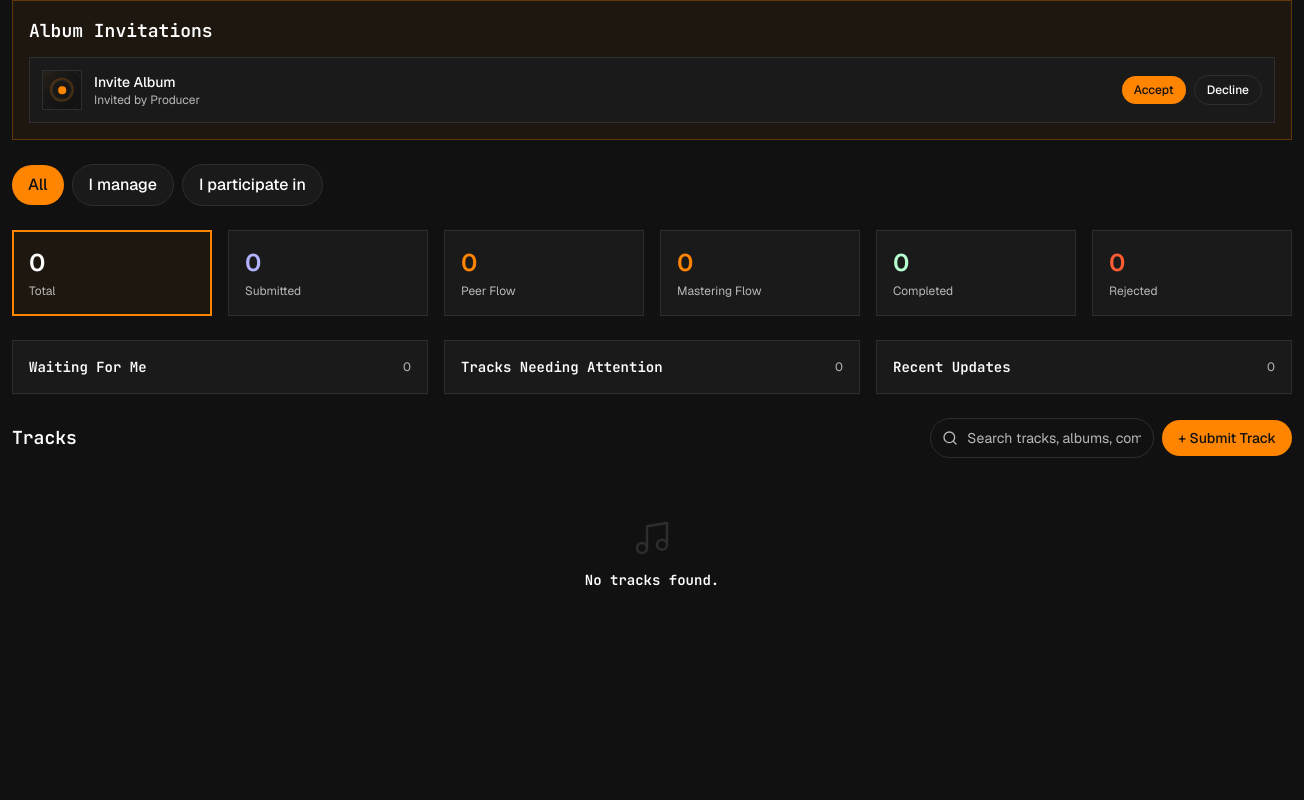
DashboardView › ignores stale dashboard search responses
Type "old" into the field with placeholder "Search tracks, albums, composers…" at (1042, 438), box [930,418,1154,458]
Wait 300 ms
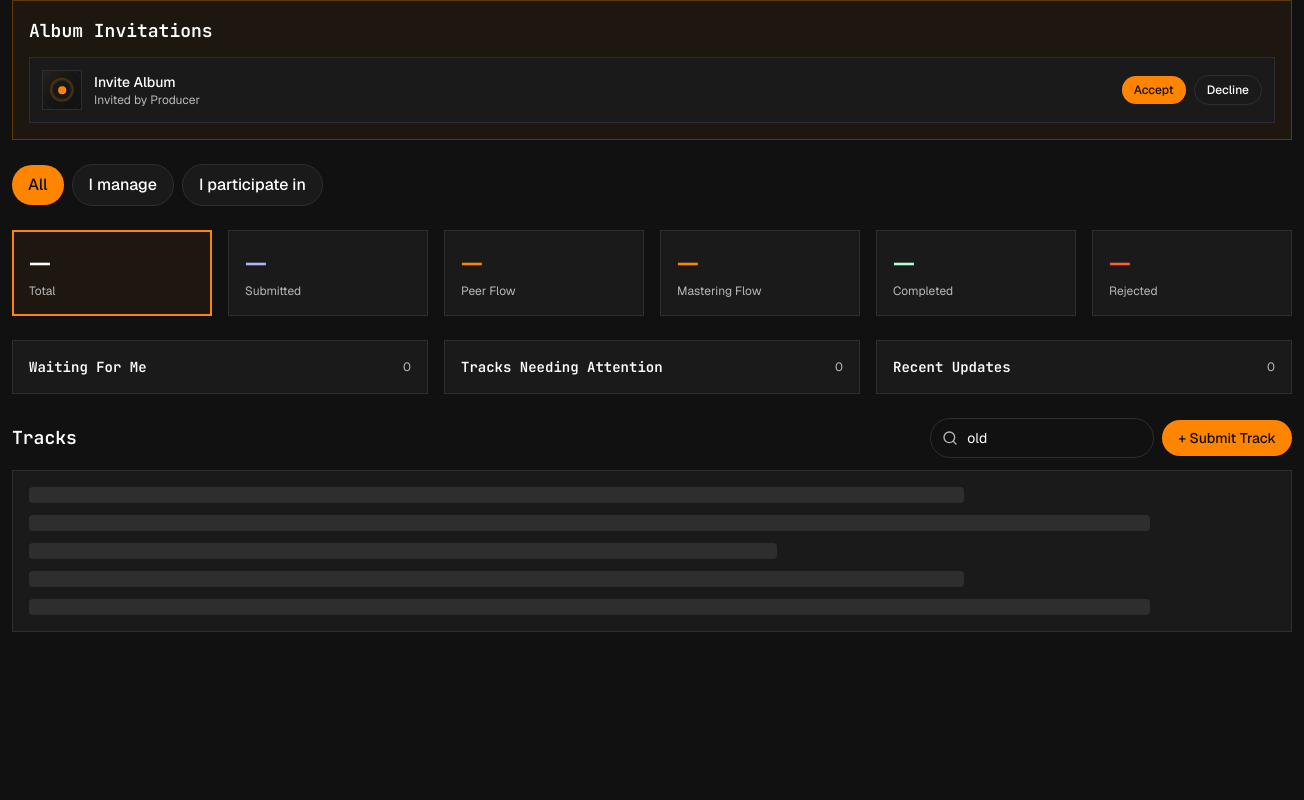
Replace the text in the field with "new" at (1042, 438), box [930,418,1154,458]
Wait 300 ms
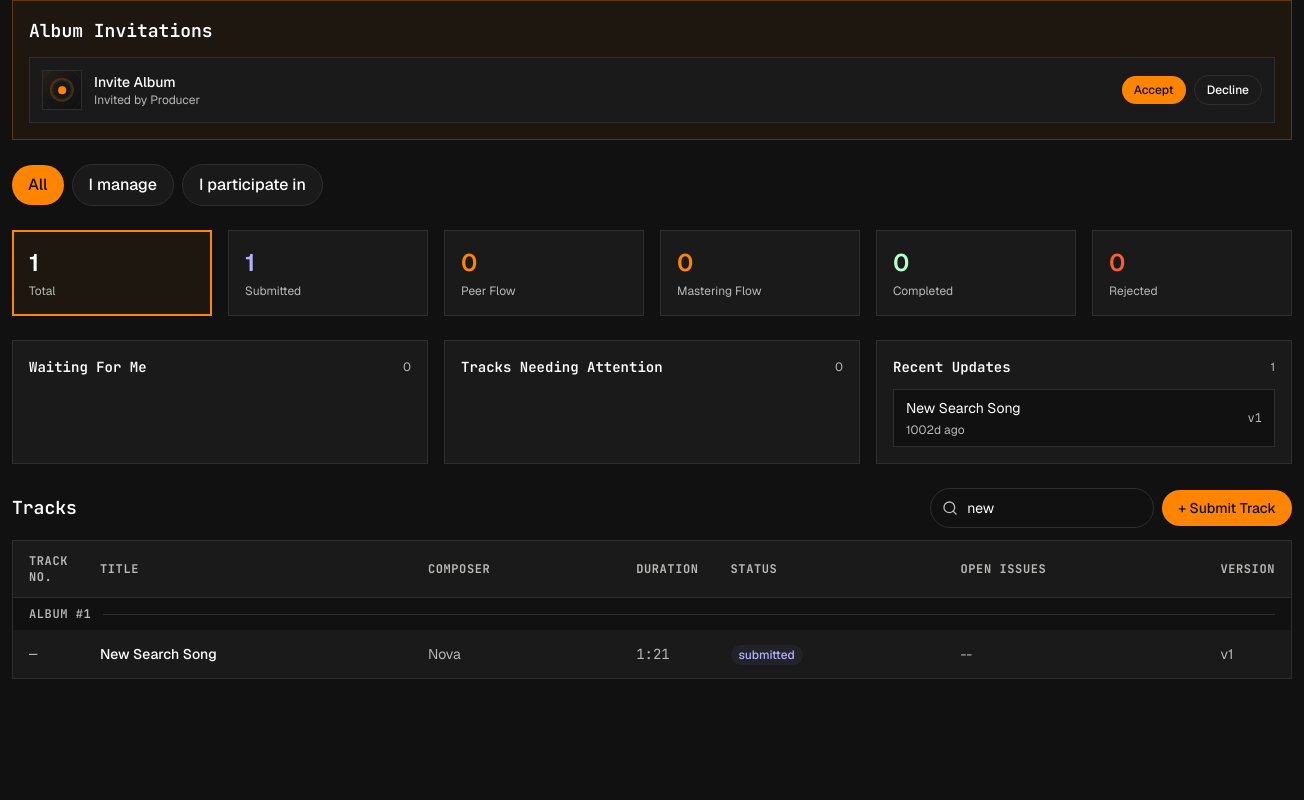
Expected: the text "New Search Song" is shown, [906,398,1021,418]
